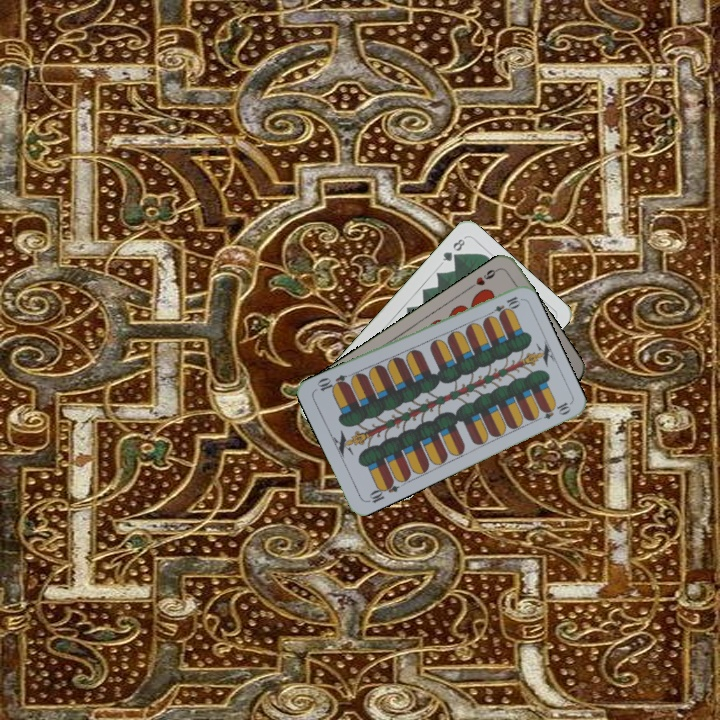E10: (363, 476, 401, 506), (484, 292, 522, 319)
G8: (438, 234, 467, 264)
H9: (466, 264, 502, 291)
